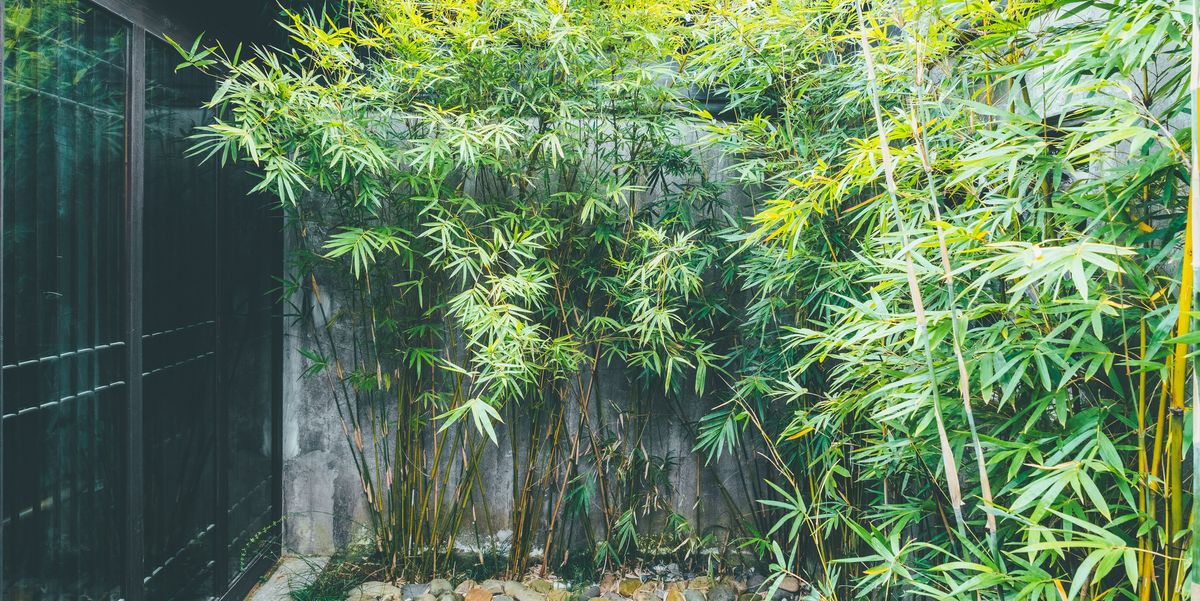bamboo: (247, 22, 871, 522), (787, 5, 1199, 601)
